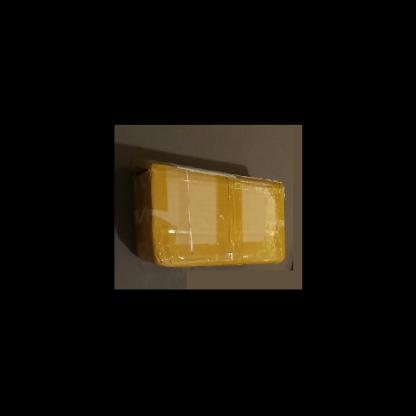package: (132, 161, 286, 265)
